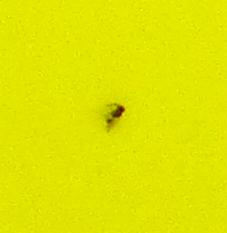Hymenoptera: (100, 100, 127, 133)
